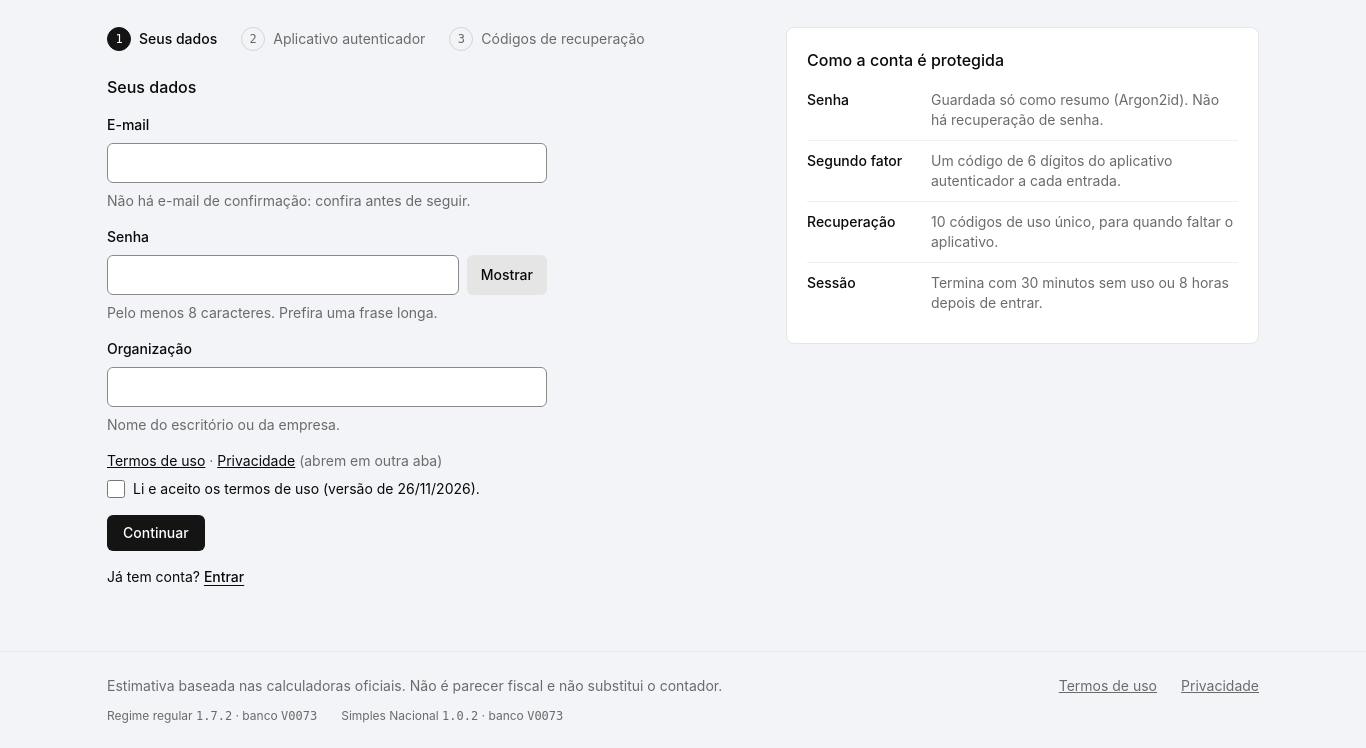
it: Criar conta, passo 1: os dados e o aceite › enviar vazio aponta os quatro erros, põe o foco no primeiro e não chama a API
(page scrolled)
Click the button "Continuar": [156, 533] box [107,515,205,551]
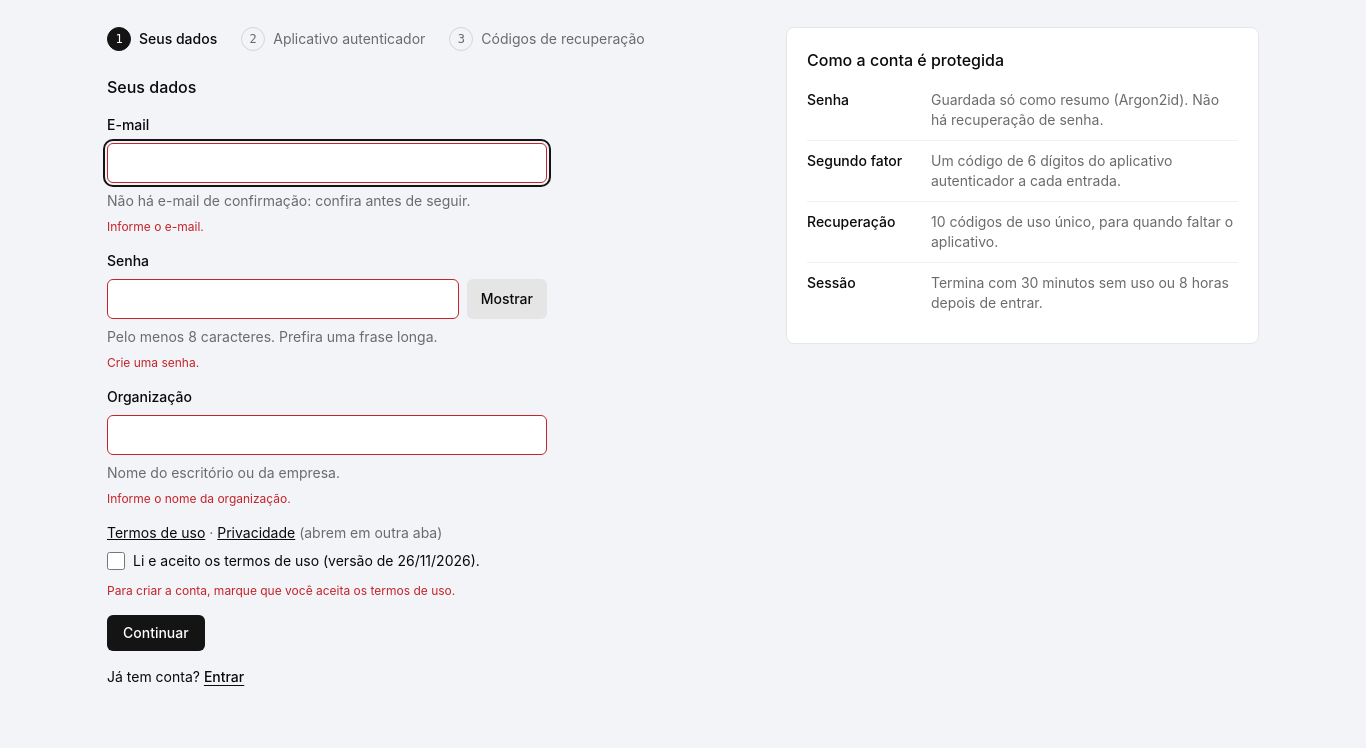
Expected: the text "Para criar a conta, marque que você aceita os termos de uso." is shown, [107,583,455,598]
